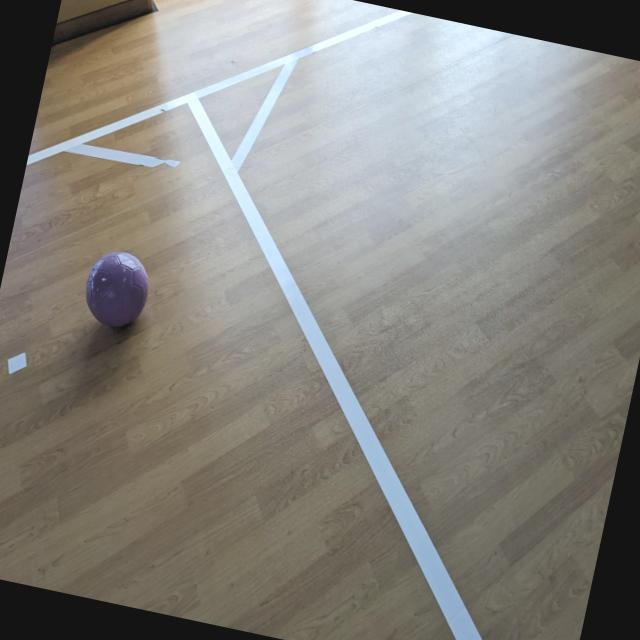purple_ball: (76, 240, 156, 340)
